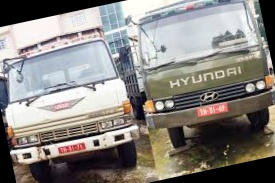plate: (53, 138, 89, 157), (195, 100, 228, 120)
